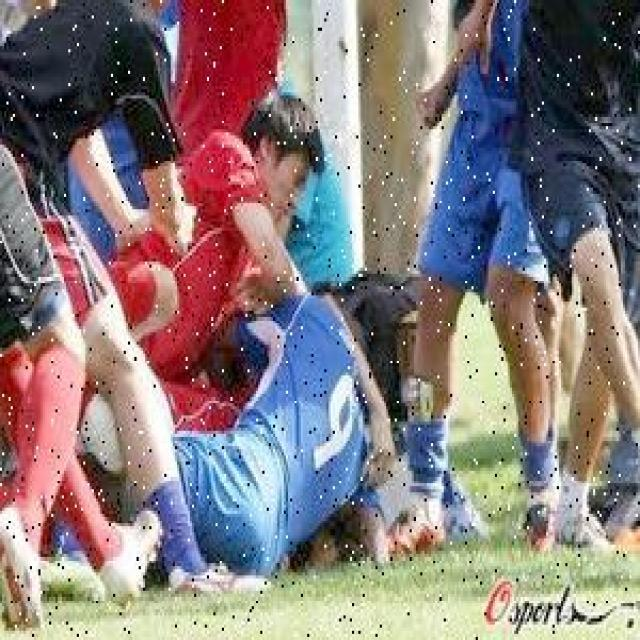fall: (134, 270, 383, 544)
